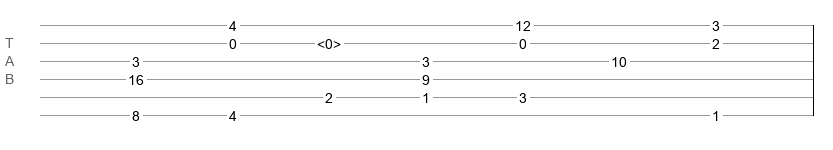0: (229, 36, 237, 46), (519, 36, 527, 46)
1: (422, 90, 430, 100), (712, 108, 720, 118)
10: (611, 54, 627, 64)
12: (515, 18, 531, 28)
16: (128, 72, 144, 82)
2: (325, 90, 333, 100), (712, 36, 720, 46)
3: (132, 54, 140, 64), (422, 54, 430, 64), (519, 90, 527, 100), (712, 18, 720, 28)
4: (229, 18, 237, 28), (229, 108, 237, 118)
8: (132, 108, 140, 118)
9: (422, 72, 430, 82)
harmonic: (317, 36, 341, 46)
